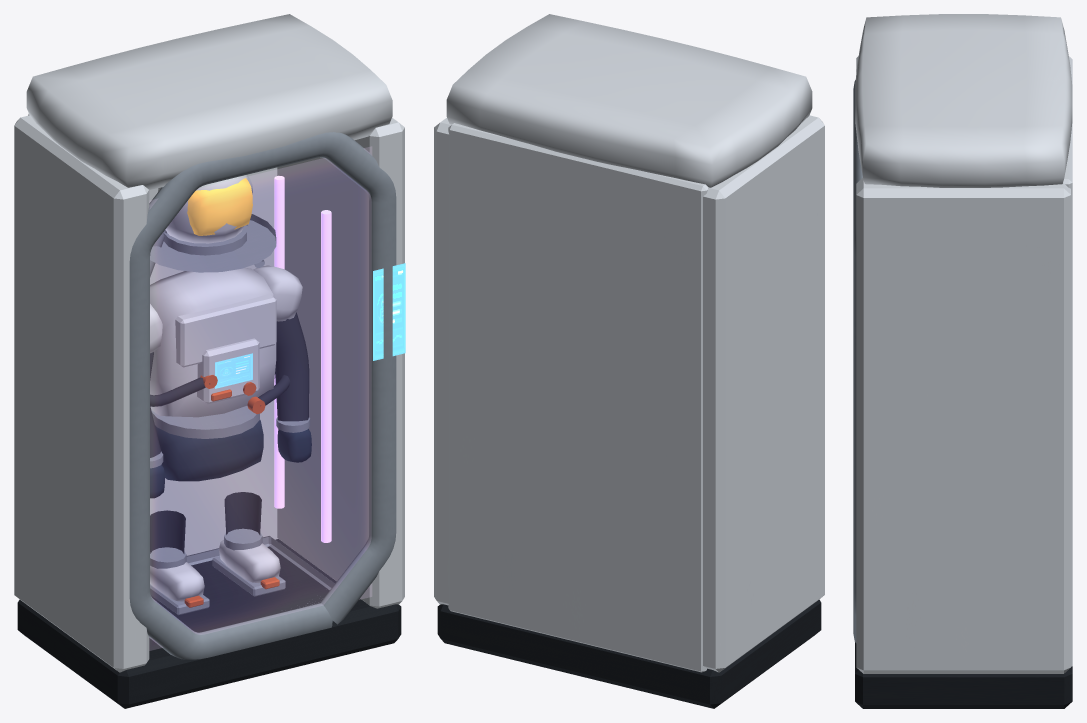
Rendered from locker_r1_04.glb.
3 renders of one model, left to right at view 1: azimuth 30°, elevation 25°; view 2: azimuth 150°, elevation 25°; view 3: azimuth 270°, elevation 25°, orthographic.
Parts seen in each view (by area): view 1: Locker04_AerospaceWhiteCapsuleShell, Locker04_VioletUVQuartzTranslucentDoor, Locker04_MachinedBezelAndBootTray, EVAKit_WhiteHelmetAndTorsoArmor, Locker04_GunmetalBasePlinth, EVAKit_BallisticCharcoalSleevesAndHoses, EVAKit_MachinedGantryRingsAndSoles, EVAKit_OrbitalNavySuitLayers, Locker04_UVSterilizerEmitterTubes, EVAKit_GoldIridiumBubbleVisor, Locker04_BioDeconOLEDReadout, EVAKit_SignalOrangeValvesAndCouplings (+1 smaller); view 2: Locker04_AerospaceWhiteCapsuleShell, Locker04_GunmetalBasePlinth; view 3: Locker04_AerospaceWhiteCapsuleShell, Locker04_GunmetalBasePlinth, Locker04_MachinedBezelAndBootTray.
Part boxes in pixels (x1,y1,x2,y2): Locker04_AerospaceWhiteCapsuleShell: [14, 14, 404, 672]; Locker04_VioletUVQuartzTranslucentDoor: [150, 147, 371, 650]; Locker04_MachinedBezelAndBootTray: [129, 132, 396, 659]; EVAKit_WhiteHelmetAndTorsoArmor: [150, 174, 302, 601]; Locker04_GunmetalBasePlinth: [17, 539, 401, 708]; EVAKit_BallisticCharcoalSleevesAndHoses: [150, 312, 309, 553]; EVAKit_MachinedGantryRingsAndSoles: [150, 176, 310, 615]; EVAKit_OrbitalNavySuitLayers: [150, 420, 311, 498]; Locker04_UVSterilizerEmitterTubes: [274, 175, 331, 542]; EVAKit_GoldIridiumBubbleVisor: [187, 178, 252, 235]; Locker04_BioDeconOLEDReadout: [373, 263, 405, 360]; EVAKit_SignalOrangeValvesAndCouplings: [184, 375, 279, 607]; Locker04_AerospaceWhiteCapsuleShell: [434, 14, 824, 672]; Locker04_GunmetalBasePlinth: [437, 599, 821, 708]; Locker04_AerospaceWhiteCapsuleShell: [855, 14, 1072, 673]; Locker04_GunmetalBasePlinth: [855, 642, 1072, 708]; Locker04_MachinedBezelAndBootTray: [853, 80, 862, 642].
Bounding box in the file's own units: 1.15 × 2.12 × 0.745.
11 materials, 11 textured.
